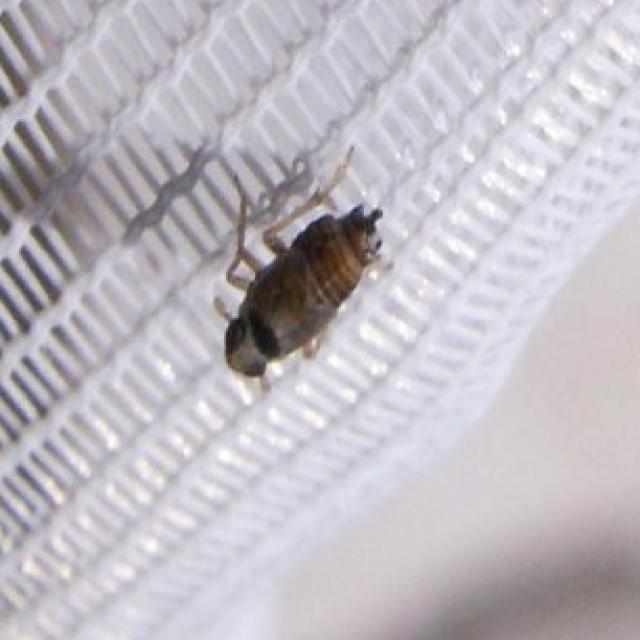brown plant hopper: (130, 148, 391, 395)
